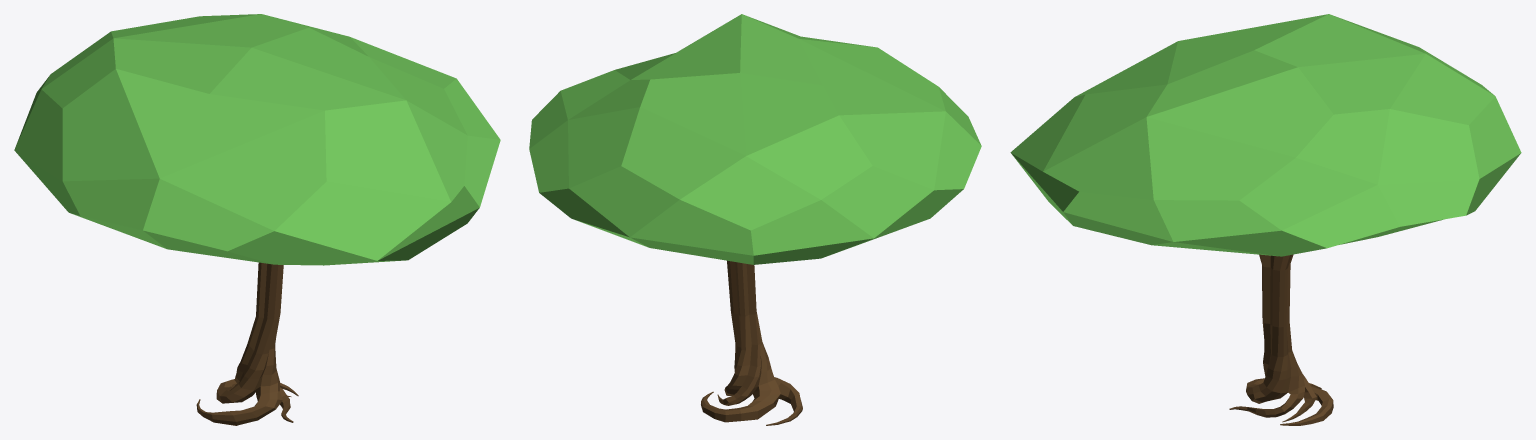
File: Tree.fbx
3 views of the same model, side by side, from view 1: azimuth 30°, elevation 25°; view 2: azimuth 150°, elevation 25°; view 3: azimuth 270°, elevation 25° (orthographic). The views are drawn at different scales.
Visible parts, largest first — view 1: pPlatonic3, pCylinder1; view 2: pPlatonic3, pCylinder1; view 3: pPlatonic3, pCylinder1.
Part boxes in pixels (bbox=[...]): pPlatonic3: bbox=[14, 14, 500, 265]; pCylinder1: bbox=[196, 262, 298, 425]; pPlatonic3: bbox=[529, 14, 981, 264]; pCylinder1: bbox=[701, 260, 802, 425]; pPlatonic3: bbox=[1010, 14, 1521, 256]; pCylinder1: bbox=[1229, 254, 1333, 425].
Size of the model in its own units: 31.75 by 26.44 by 35.69.
